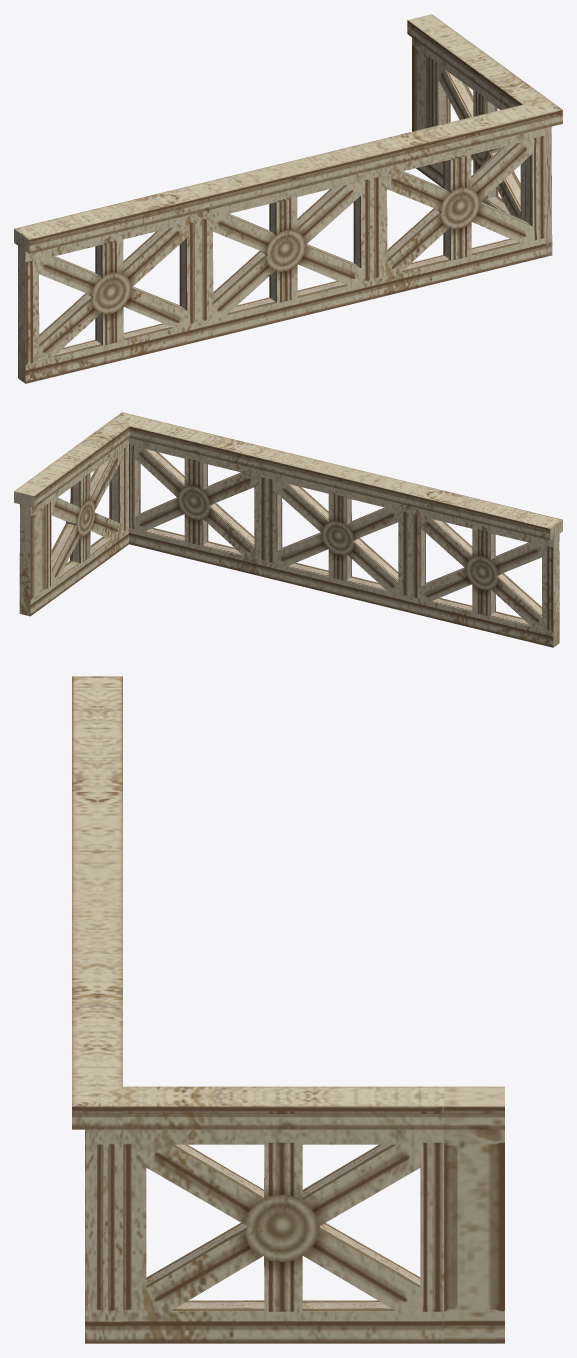
File: svspartarail4.dae
3 views of the same model, one above another, from view 1: azimuth 30°, elevation 25°; view 2: azimuth 150°, elevation 25°; view 3: azimuth 270°, elevation 25° (orthographic). The views are drawn at different scales.
Parts seen in each view (by area): view 1: unnamed_object6_sep34-0; view 2: unnamed_object6_sep34-0; view 3: unnamed_object6_sep34-0.
Part boxes in pixels (x1,y1,x2,y2): unnamed_object6_sep34-0: (14,14,562,383); unnamed_object6_sep34-0: (14,412,562,647); unnamed_object6_sep34-0: (72,676,504,1343).
Size of the model in its own units: 300 by 78.75 by 128.
